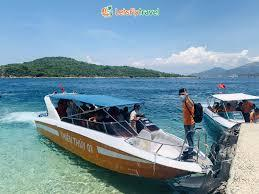Ship: (36, 94, 213, 180), (204, 95, 259, 139)
